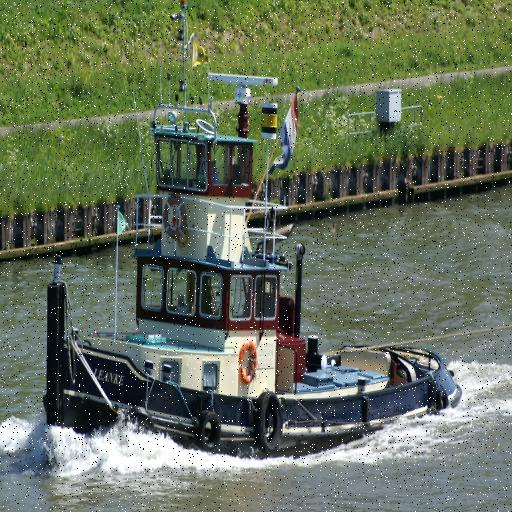tugboat: (42, 67, 467, 466)
